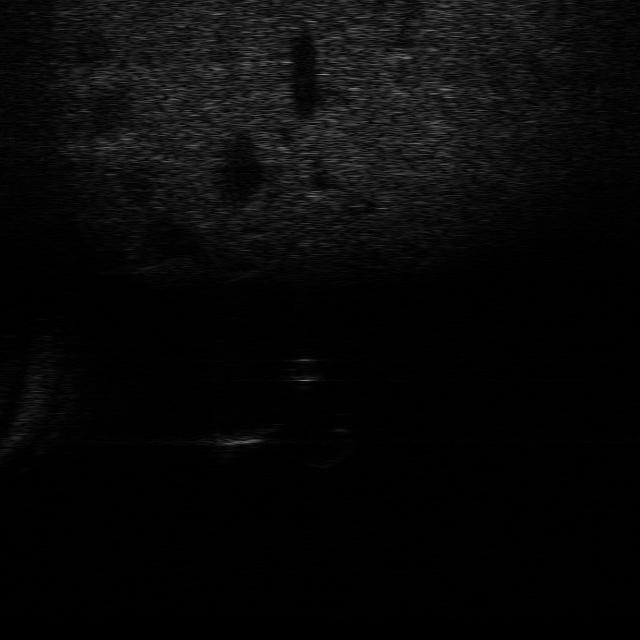ball: (302, 424, 362, 471)
square cage: (274, 350, 332, 394)
tyre: (301, 431, 364, 474)
